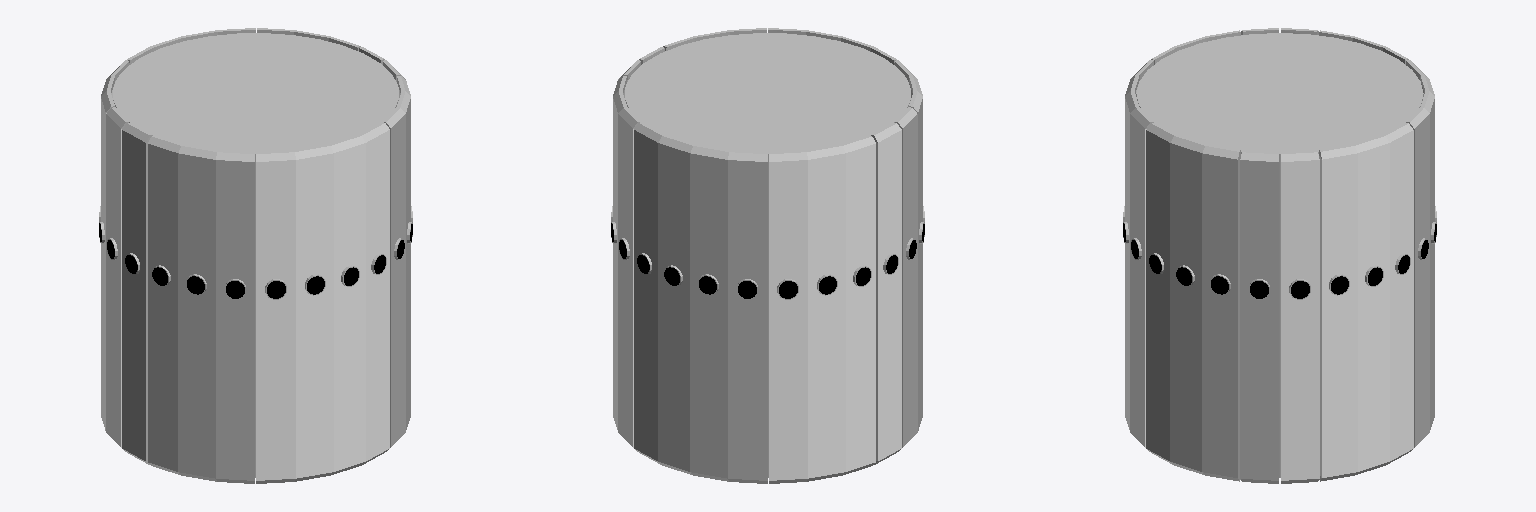
Rendered from evasor.obj.
3 views of the same model, side by side, from view 1: azimuth 30°, elevation 25°; view 2: azimuth 150°, elevation 25°; view 3: azimuth 270°, elevation 25° (orthographic).
Parts seen in each view (by area): view 1: b21_top; view 2: b21_top; view 3: b21_top.
Boxes of the visible parts, x1,y1,x2,y2 form: b21_top: [99, 28, 412, 483]; b21_top: [611, 28, 924, 483]; b21_top: [1123, 28, 1436, 483].
Size of the model in its own units: 0.4922 by 0.57 by 0.4922.